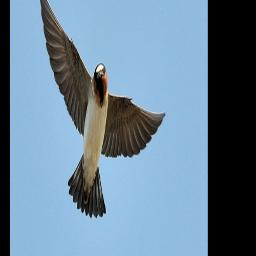Swallow: (37, 0, 166, 219)
